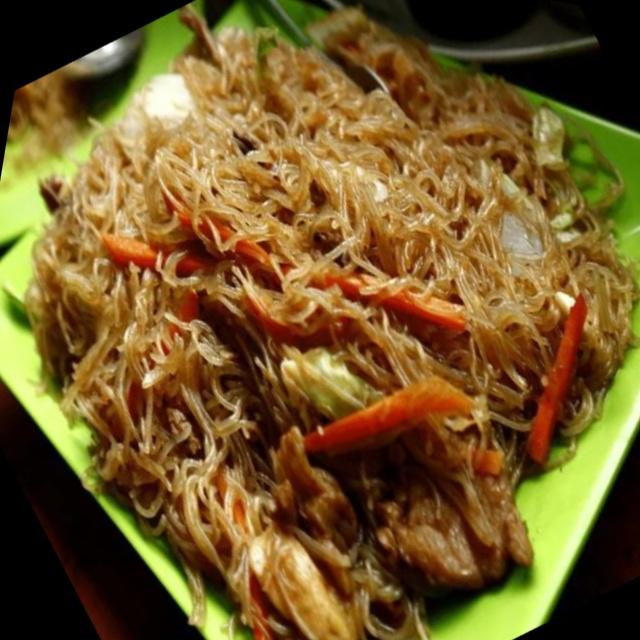pancit bihon: (31, 2, 639, 639)
